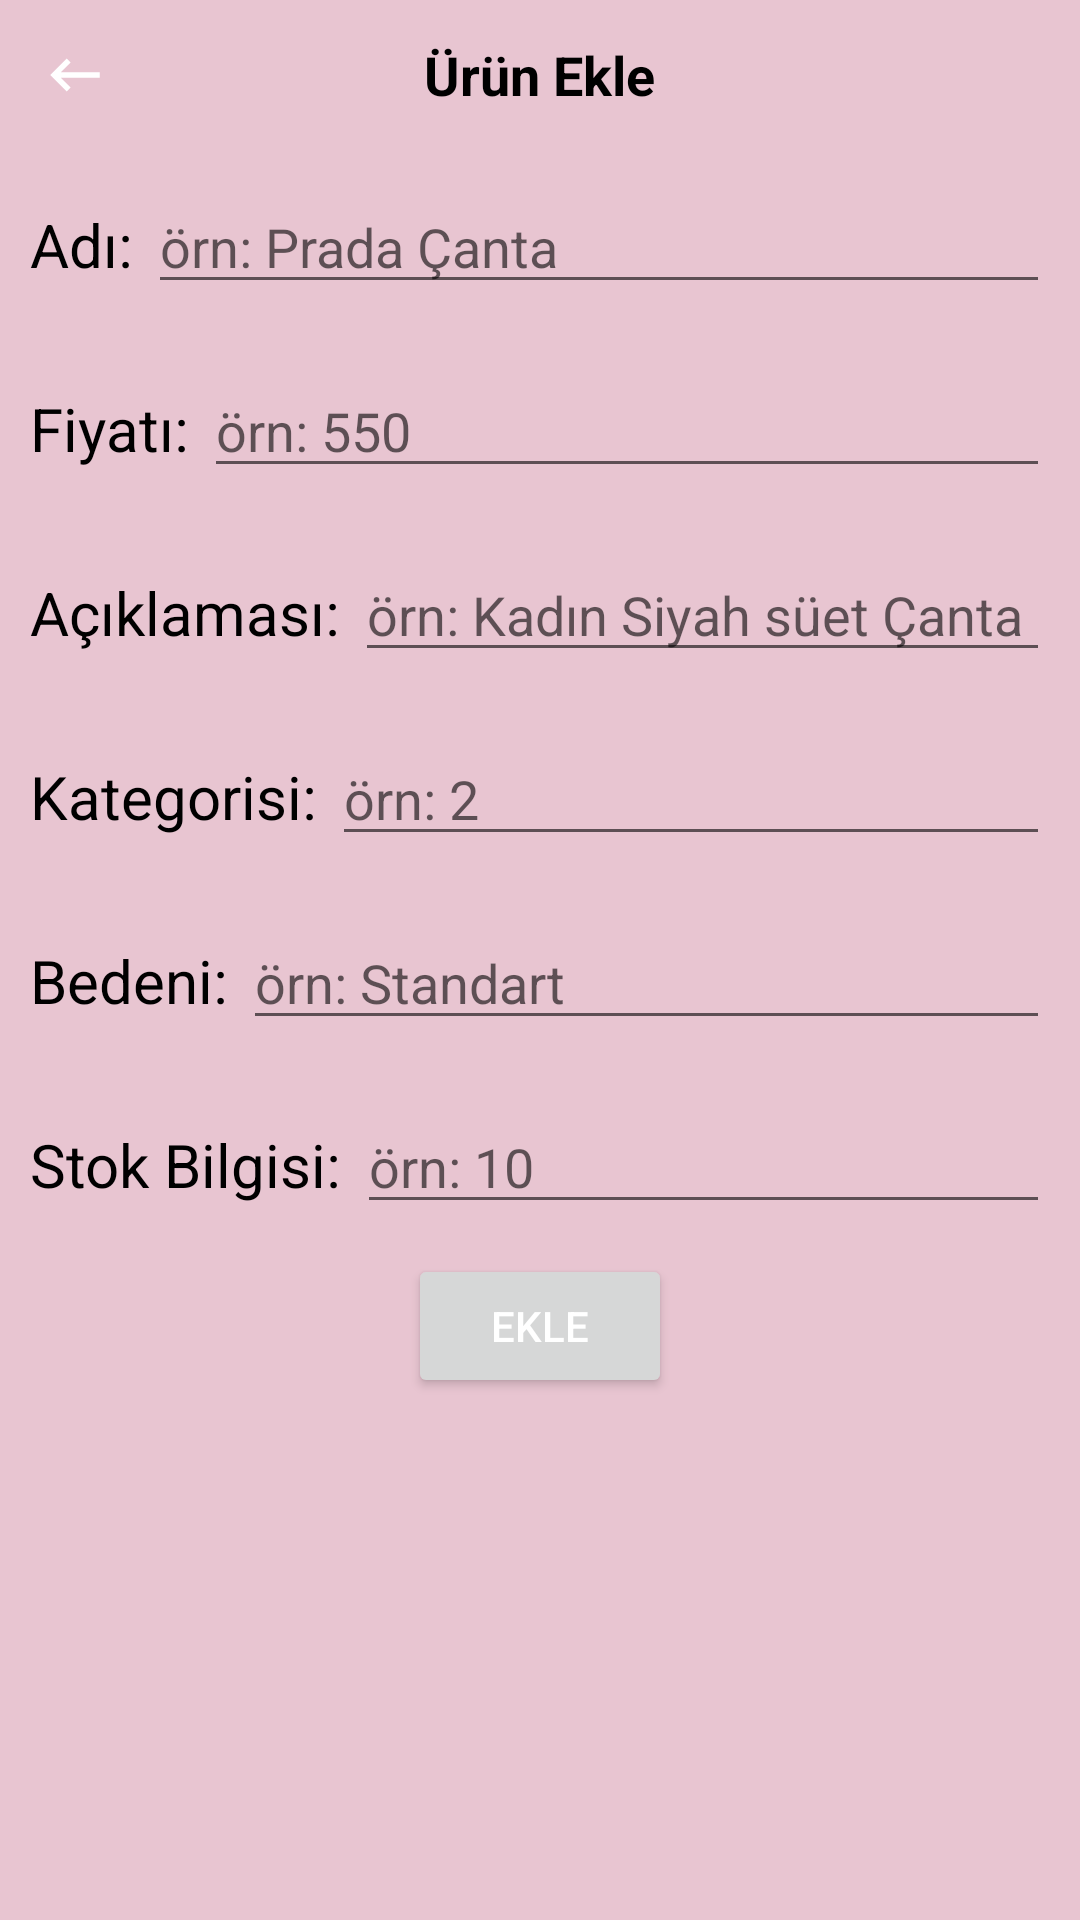

Named icons in this screenshot (1080px x 1920px) and their centers, (x=x, y=y):
back: (x=75, y=75)
